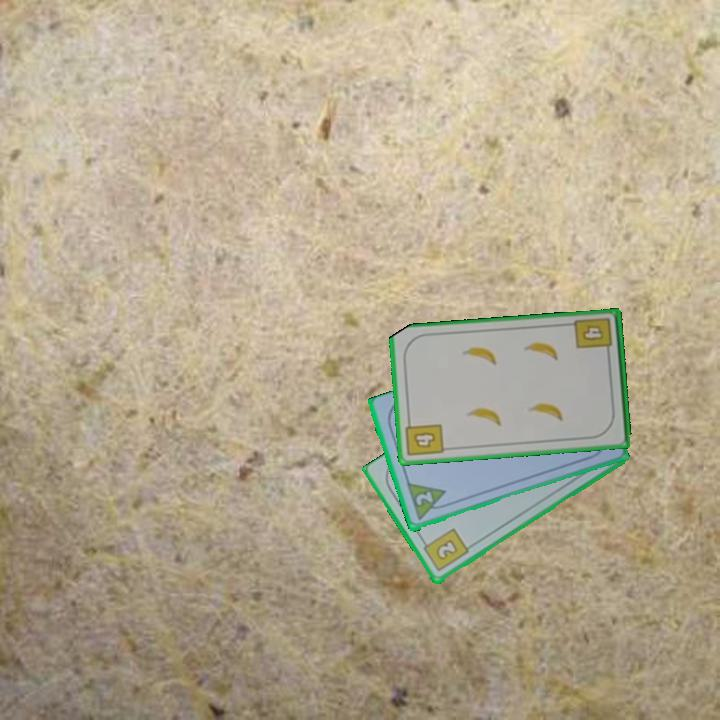2b: (418, 525, 471, 575)
2p: (412, 488, 436, 509)
4b: (571, 314, 615, 359), (402, 416, 446, 459)
